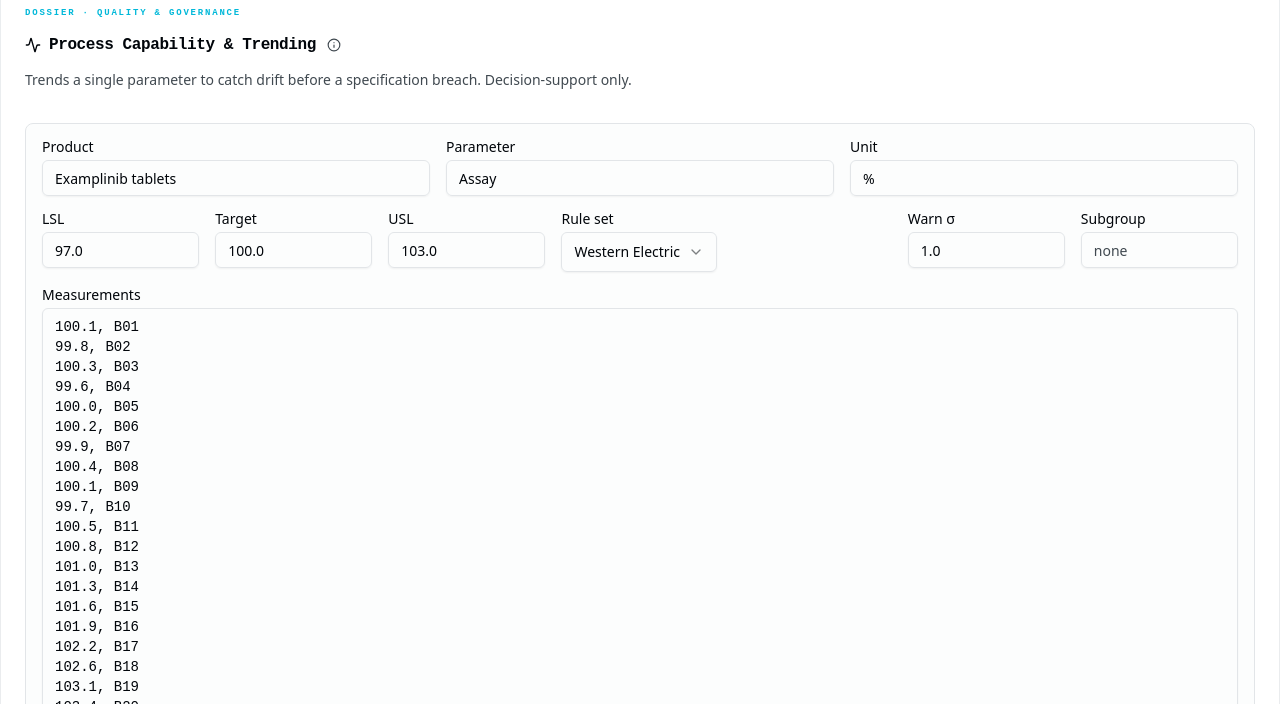
Test: SPCProcessCapabilityPanel › blocks analysis when both spec limits are missing (no fetch)
Clear the field labelled "USL" at (467, 250), box x1=388 y1=232 x2=545 y2=268
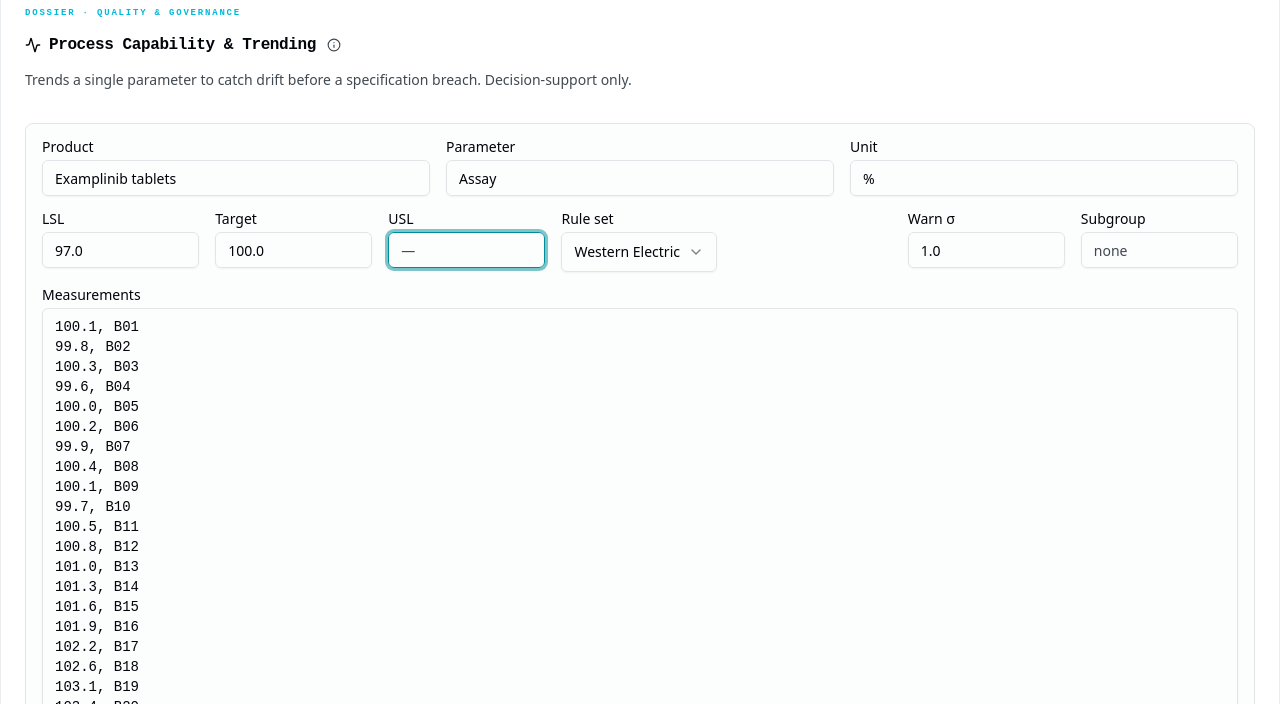
Clear the field labelled "LSL" at (121, 250), box x1=42 y1=232 x2=199 y2=268
(page scrolled)
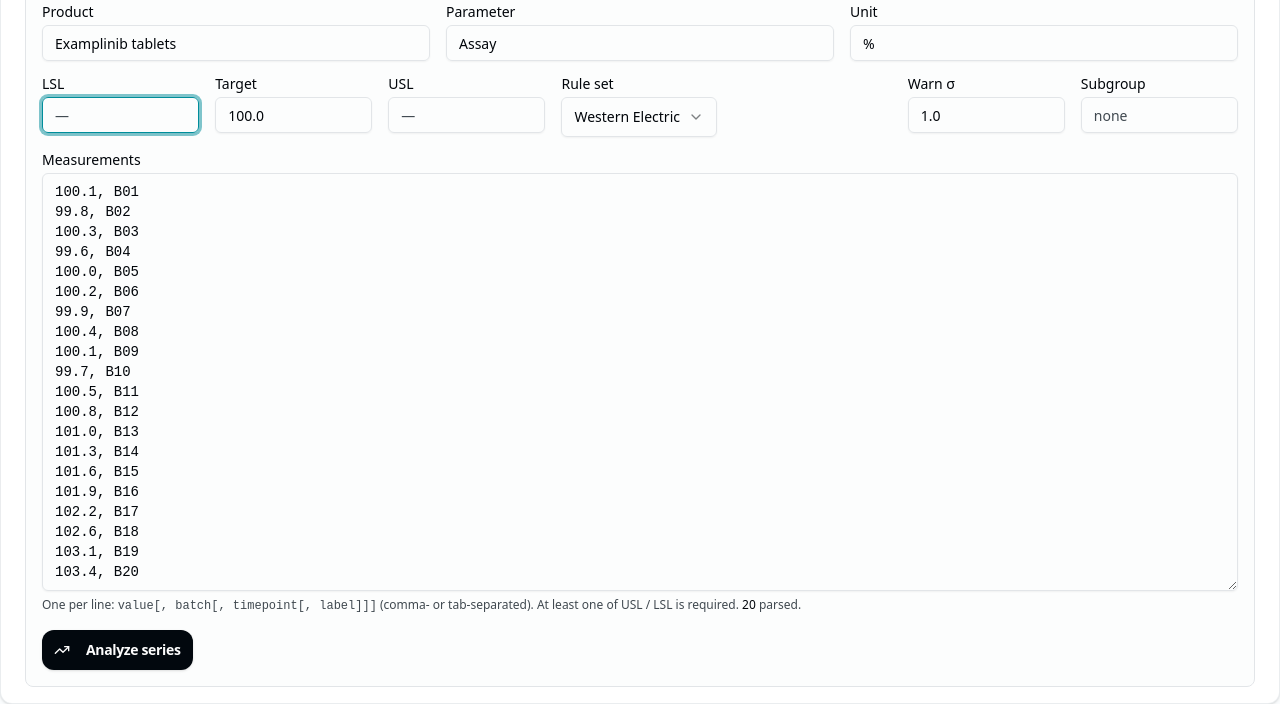
Click the button "Analyze series" at (117, 650), box x1=42 y1=630 x2=192 y2=670
(page scrolled)
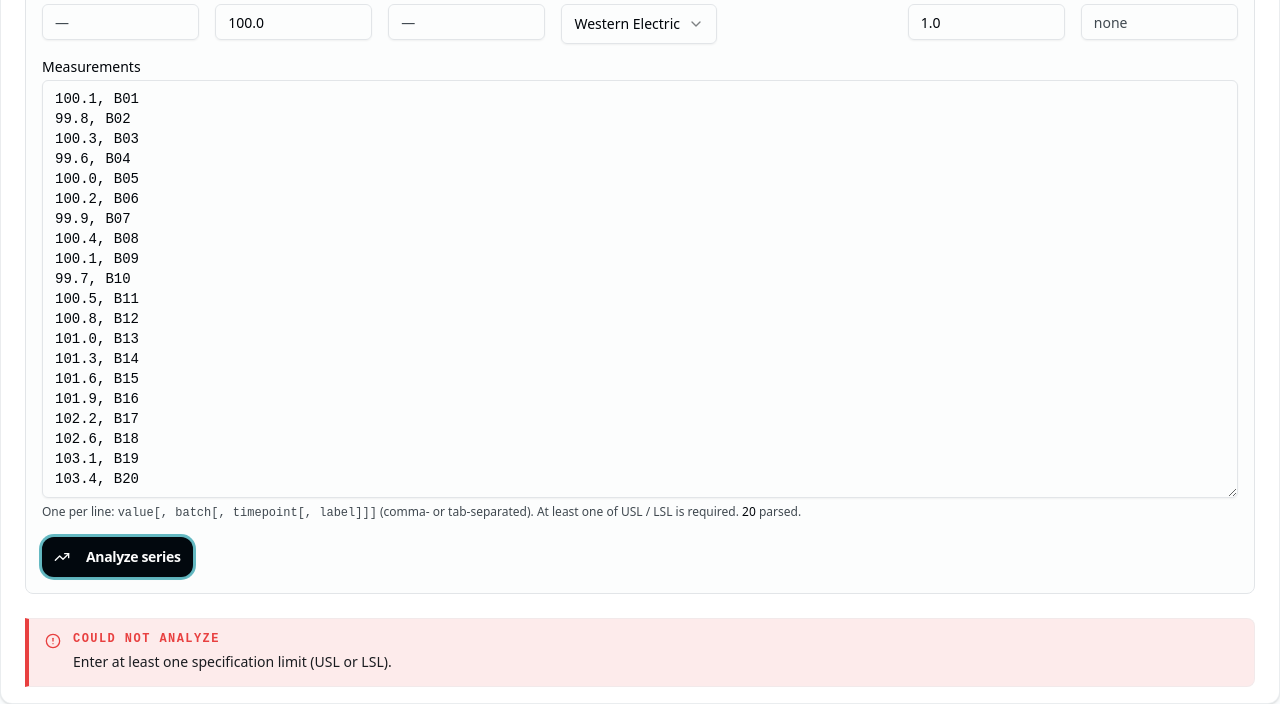
Expected: the text "Enter at least one specification limit (USL or LSL)." is shown, x1=73 y1=651 x2=392 y2=674
